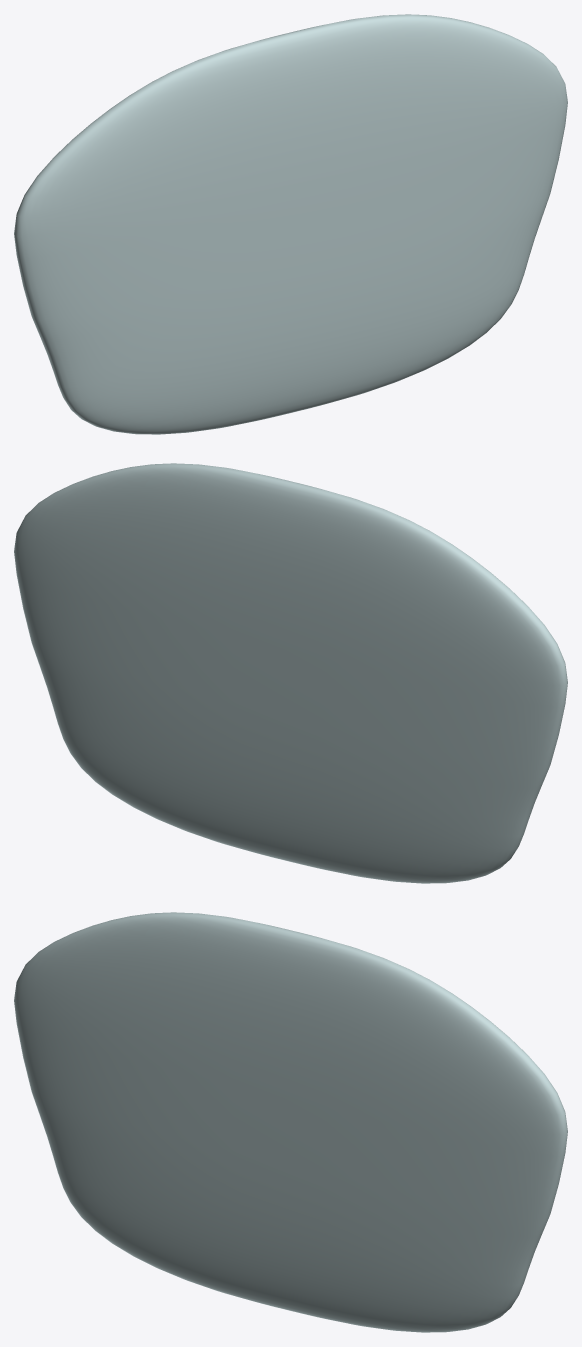
3 views of the same model, one above another, from view 1: azimuth 30°, elevation 25°; view 2: azimuth 150°, elevation 25°; view 3: azimuth 330°, elevation 25° (orthographic).
Parts seen in each view (by area): view 1: thin-pool; view 2: thin-pool; view 3: thin-pool.
Boxes of the visible parts, bbox=[...] form: thin-pool: bbox=[14, 14, 567, 434]; thin-pool: bbox=[14, 463, 567, 883]; thin-pool: bbox=[14, 912, 567, 1332].
Bounding box in the file's own units: 2.69 × 1.76 × 0.2.
